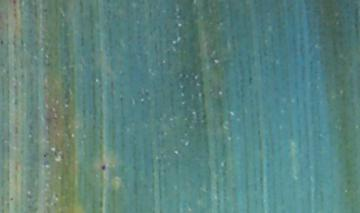tarspot: (101, 163, 107, 171), (43, 6, 49, 13), (10, 195, 15, 202), (43, 152, 47, 158), (1, 40, 5, 45)
